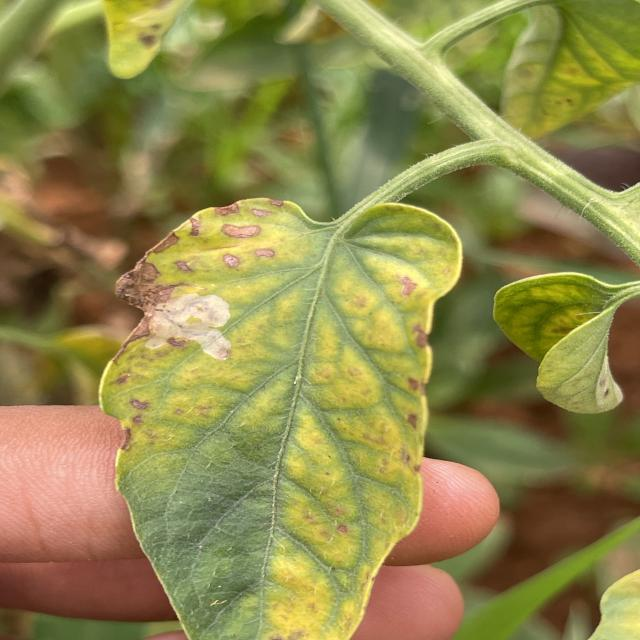tomato_early blight: (94, 200, 462, 640), (489, 268, 640, 414), (500, 0, 640, 133), (100, 0, 206, 74)
